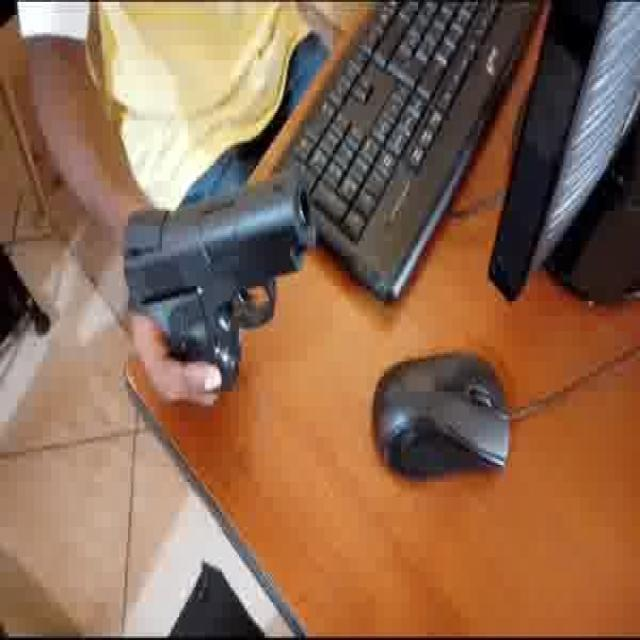weapon: (122, 162, 313, 394)
